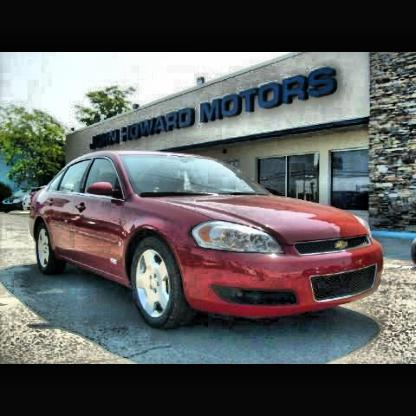Chevrolet Impala Sedan 2007: (19, 137, 400, 361)
